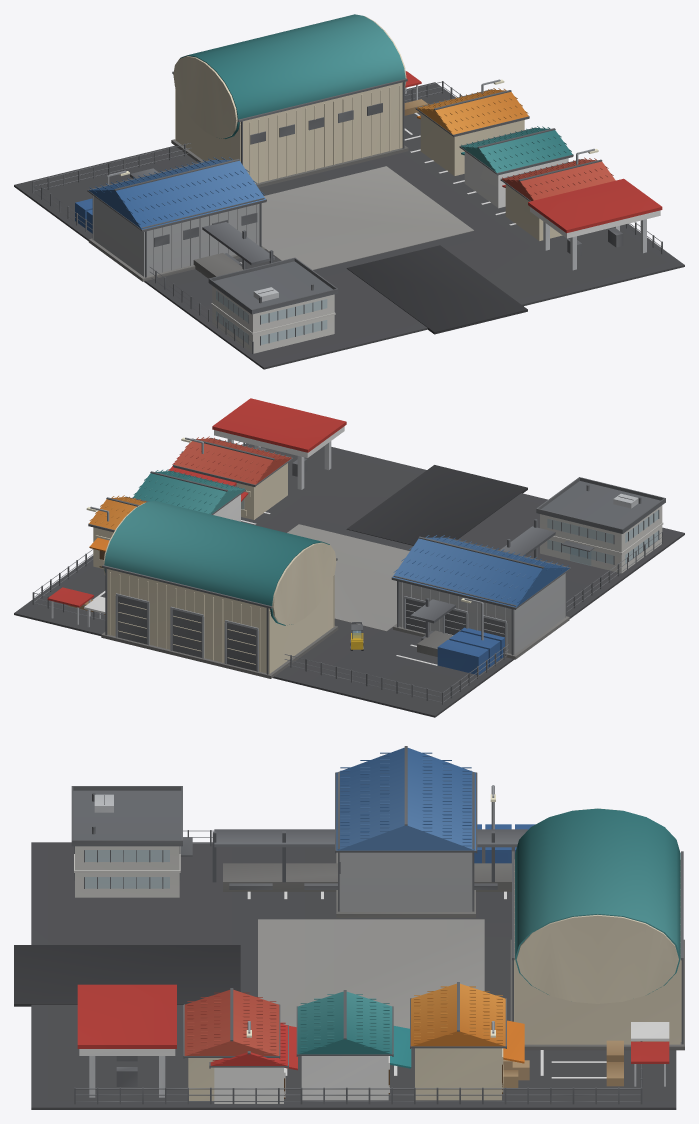
File: Market_P2.fbx
3 views of the same model, one above another, from view 1: azimuth 30°, elevation 25°; view 2: azimuth 150°, elevation 25°; view 3: azimuth 270°, elevation 25° (orthographic). The views are drawn at different scales.
Visible parts, largest first — view 1: Market.Pad, Market.WH1, Market.WH2, Market.Office, Market.Fuel, Market.Shop2, Market.Shop1, Market.Shop0, Market.Dock, Market.Fence; view 2: Market.Pad, Market.WH1, Market.WH2, Market.Office, Market.Fuel, Market.Shop0, Market.Shop1, Market.Fence, Market.Goods, Market.Dock, Market.Shop2, Market.Stalls; view 3: Market.Pad, Market.WH1, Market.WH2, Market.Office, Market.Shop2, Market.Shop1, Market.Fuel, Market.Dock, Market.Shop0, Market.Fence, Market.FuelShop, Market.Stalls (+1 smaller).
Part boxes in pixels (left/top/right/bottom): Market.Pad: left=14, top=82, right=684, bottom=369; Market.WH1: left=171, top=14, right=408, bottom=187; Market.WH2: left=87, top=157, right=266, bottom=281; Market.Office: left=208, top=257, right=338, bottom=353; Market.Fuel: left=528, top=178, right=662, bottom=270; Market.Shop2: left=415, top=88, right=529, bottom=175; Market.Shop1: left=459, top=126, right=573, bottom=208; Market.Shop0: left=500, top=157, right=615, bottom=240; Market.Dock: left=130, top=168, right=274, bottom=278; Market.Fence: left=32, top=81, right=662, bottom=354; Market.Pad: left=14, top=443, right=684, bottom=717; Market.WH1: left=101, top=501, right=338, bottom=678; Market.WH2: left=391, top=535, right=570, bottom=659; Market.Office: left=536, top=477, right=665, bottom=573; Market.Fuel: left=212, top=398, right=346, bottom=489; Market.Shop0: left=173, top=436, right=292, bottom=519; Market.Shop1: left=132, top=469, right=245, bottom=521; Market.Fence: left=32, top=441, right=662, bottom=704; Market.Goods: left=437, top=627, right=504, bottom=674; Market.Dock: left=410, top=519, right=555, bottom=656; Market.Shop2: left=88, top=495, right=147, bottom=568; Market.Stalls: left=47, top=587, right=105, bottom=627; Market.Pad: left=14, top=842, right=676, bottom=1109; Market.WH1: left=510, top=808, right=684, bottom=1050; Market.WH2: left=335, top=746, right=477, bottom=917; Market.Office: left=71, top=786, right=192, bottom=897; Market.Shop2: left=410, top=982, right=524, bottom=1100; Market.Shop1: left=296, top=990, right=411, bottom=1100; Market.Fuel: left=77, top=984, right=176, bottom=1097; Market.Dock: left=212, top=829, right=527, bottom=891; Market.Shop0: left=183, top=988, right=297, bottom=1100; Market.Fence: left=74, top=830, right=642, bottom=1104; Market.FuelShop: left=209, top=1022, right=288, bottom=1103; Market.Stalls: left=606, top=1022, right=669, bottom=1086.
Size of the model in its own units: 7267 by 1751 by 7700.
